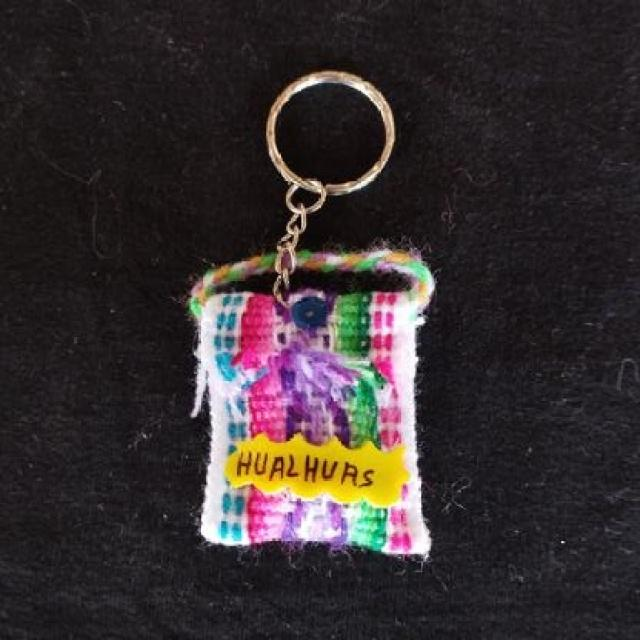Llavero: (187, 246, 436, 560)
